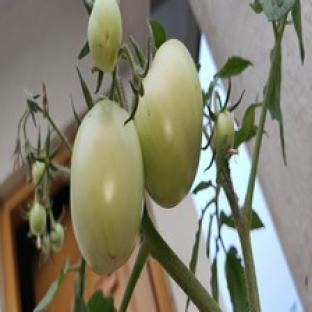Tomato: (72, 99, 143, 272), (136, 39, 203, 207), (212, 109, 235, 153), (30, 201, 47, 235), (51, 223, 64, 252), (32, 160, 46, 185)
